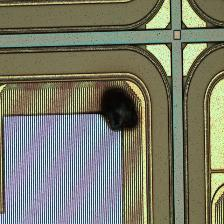PARTICLE: (94, 86, 146, 138)
